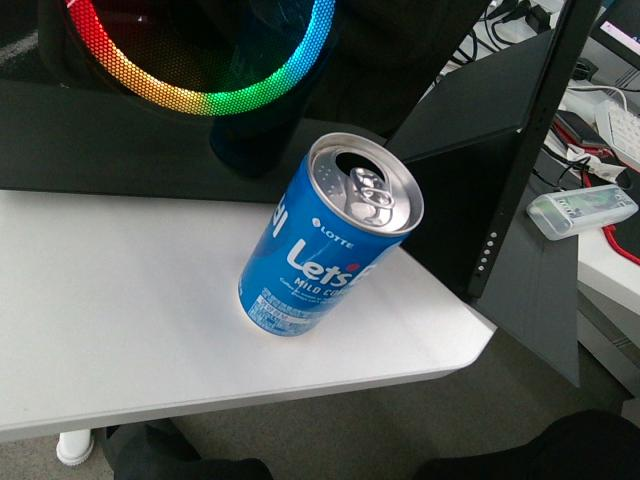letsbe: (236, 131, 424, 337)
